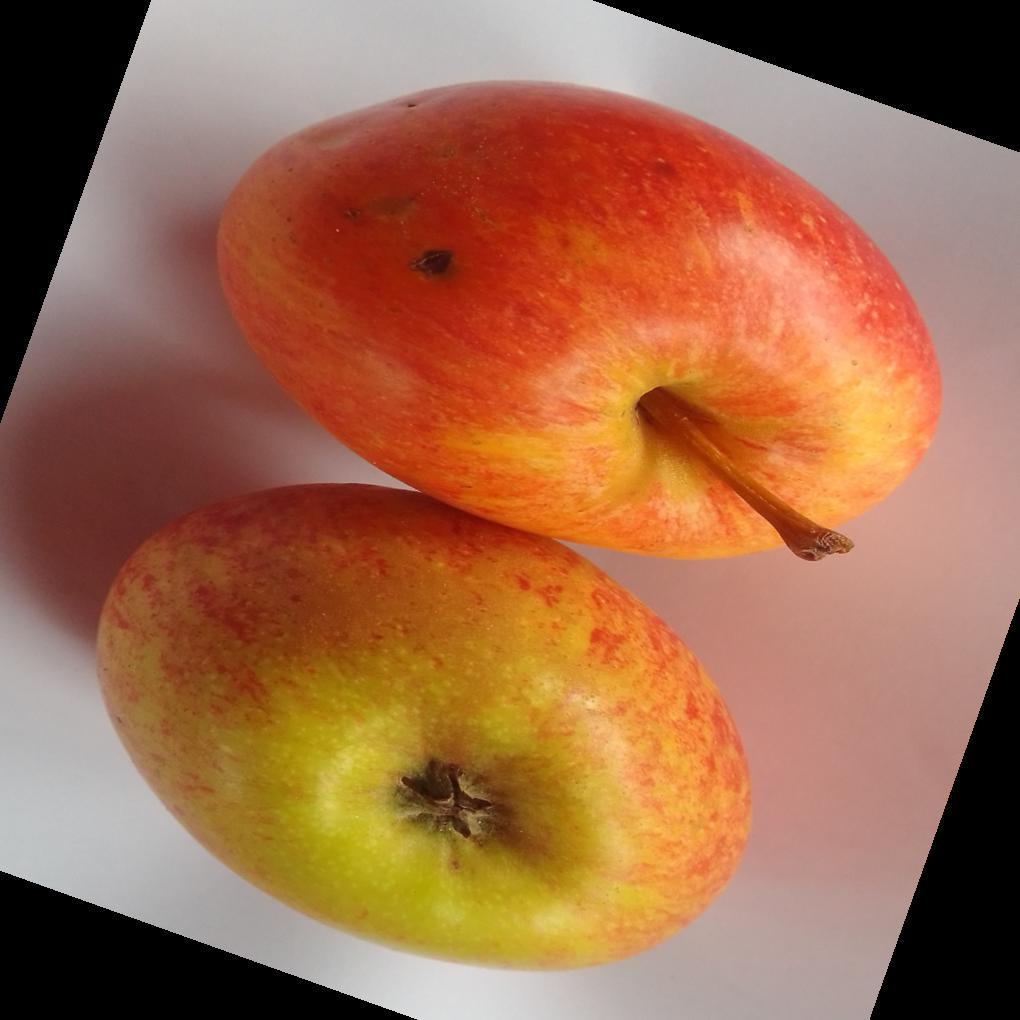FreshGuava: (94, 82, 945, 975)
